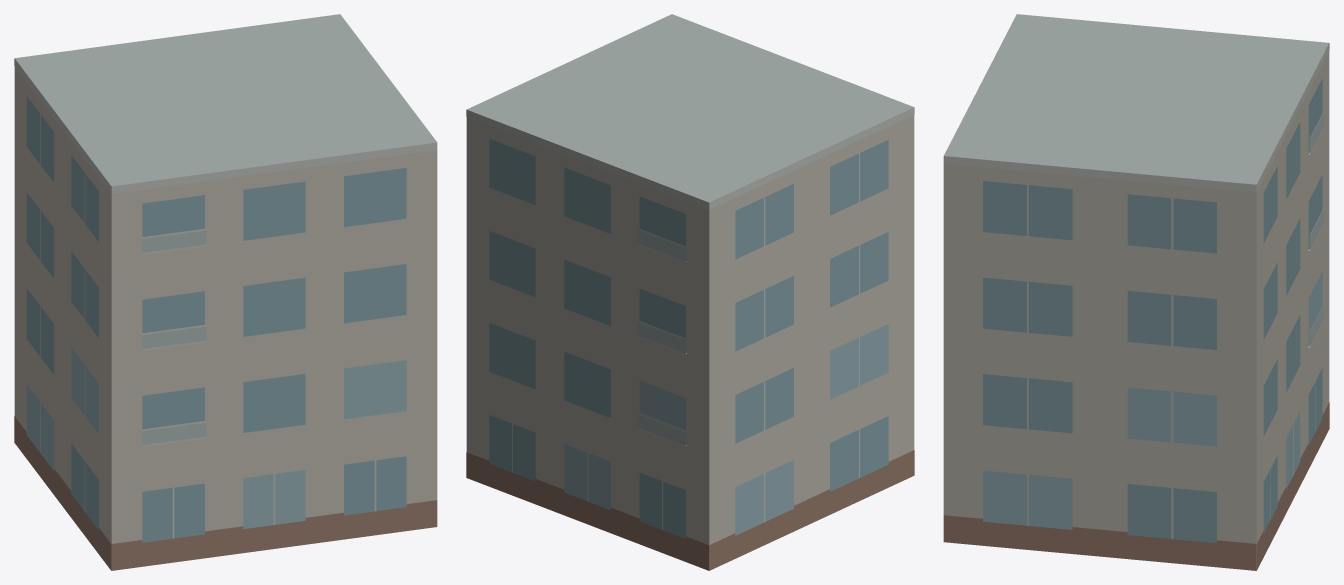
File: residential-7b054247-2e8b-46d8-b607-5024bf0af134.glb
3 renders of one model, left to right at view 1: azimuth 30°, elevation 25°; view 2: azimuth 150°, elevation 25°; view 3: azimuth 270°, elevation 25°, orthographic. The views are drawn at different scales.
Parts seen in each view (by area): view 1: residential-7b054247-2e8b-46d8-b607-5024bf0af134.tmp; view 2: residential-7b054247-2e8b-46d8-b607-5024bf0af134.tmp; view 3: residential-7b054247-2e8b-46d8-b607-5024bf0af134.tmp.
Part boxes in pixels (left/top/right/bottom): residential-7b054247-2e8b-46d8-b607-5024bf0af134.tmp: left=14, top=14, right=437, bottom=570; residential-7b054247-2e8b-46d8-b607-5024bf0af134.tmp: left=466, top=14, right=914, bottom=570; residential-7b054247-2e8b-46d8-b607-5024bf0af134.tmp: left=943, top=14, right=1329, bottom=570.
Bounding box in the file's own units: 11.58 × 12.2 × 11.05.
